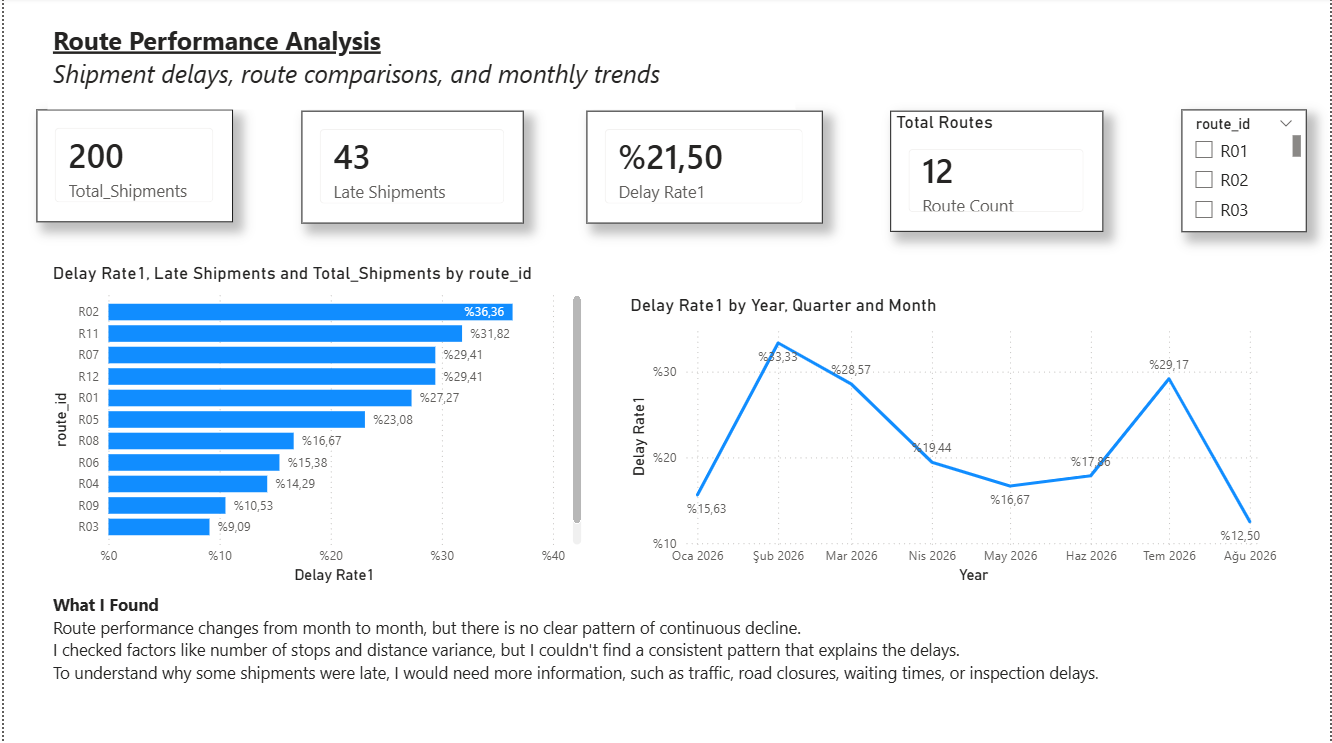

What the dashboard file says about the page in this screenshot:
{"tool":"powerbi","page":{"name":"Page 1","canvas":[1280,720],"ordinal":0},"visuals":[{"type":"cardVisual","fields":{"Data":["route_performance.Total_Shipment"]},"box":[31.6,108.4,189.4,108.4],"z":0},{"type":"cardVisual","fields":{"Data":["route_performance.Late Shipments"]},"box":[286.8,109.8,214.1,108.4],"z":1000},{"type":"cardVisual","fields":{"Data":["route_performance.Delay Rate1"]},"box":[562.6,109.8,227.8,108.4],"z":2000},{"type":"cardVisual","title":"Total Routes","fields":{"Data":["route_performance.Route Count"]},"box":[854.9,109.8,205.8,116.6],"z":3000},{"type":"clusteredBarChart","fields":{"Category":["route_performance.route_id"],"Y":["route_performance.Delay Rate1"]},"box":[42.5,255.2,520.1,315.6],"z":4000},{"type":"lineChart","fields":{"Y":["route_performance.Delay Rate1"],"Category":["route_performance.shipment_date.Variation.Date Hierarchy.Year","route_performance.shipment_date.Variation.Date Hierarchy.Quarter","route_performance.shipment_date.Variation.Date Hierarchy.Month","route_performance.shipment_date.Variation.Date Hierarchy.Day"]},"box":[599.7,286.8,634,284],"z":5000},{"type":"textbox","box":[42.5,570.8,1040.1,123.5],"z":6000},{"type":"slicer","fields":{"Values":["route_performance.route_id"]},"box":[1136.2,108.4,120.8,118],"z":6001},{"type":"textbox","box":[42.5,20.6,721.8,87.8],"z":6002}]}

Visuals, with their boxes in screenshot pixels (x1, y1, x2, y2), scaled from the page's 1280x720 canvas onto the 1332x743 screenshot:
cardVisual - route_performance.Total_Shipment: bbox=[33, 112, 230, 224]
cardVisual - route_performance.Late Shipments: bbox=[298, 113, 521, 225]
cardVisual - route_performance.Delay Rate1: bbox=[585, 113, 823, 225]
"Total Routes" cardVisual: bbox=[890, 113, 1104, 234]
clusteredBarChart - route_performance.route_id x route_performance.Delay Rate1: bbox=[44, 263, 585, 589]
lineChart - route_performance.Delay Rate1 x route_performance.shipment_date.Variation.Date Hierarchy.Year: bbox=[624, 296, 1284, 589]
textbox: bbox=[44, 589, 1127, 716]
slicer - route_performance.route_id: bbox=[1182, 112, 1308, 234]
textbox: bbox=[44, 21, 795, 112]
